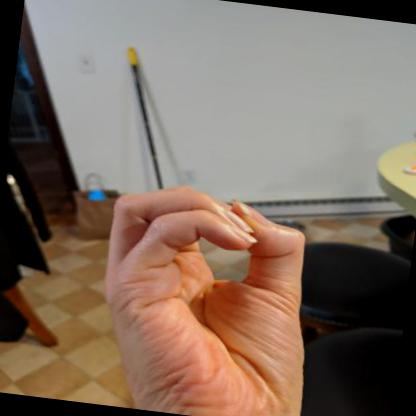O: (104, 186, 304, 416)
